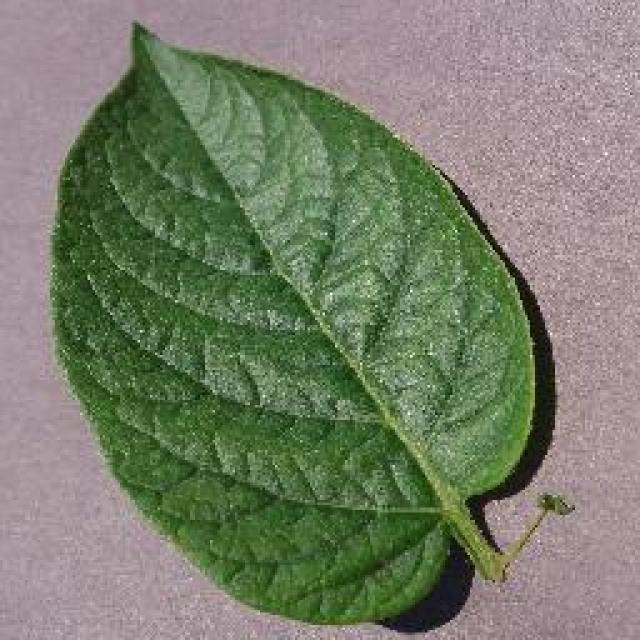Pot_healthy: (60, 109, 530, 525)
